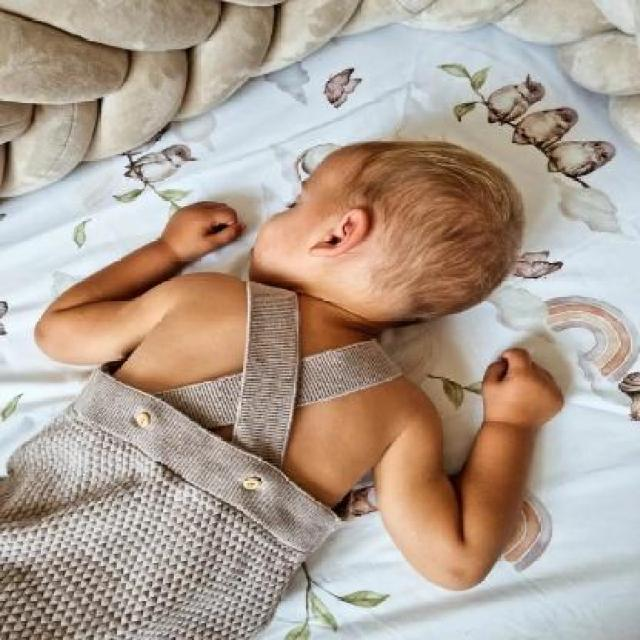baby: (0, 138, 565, 640)
